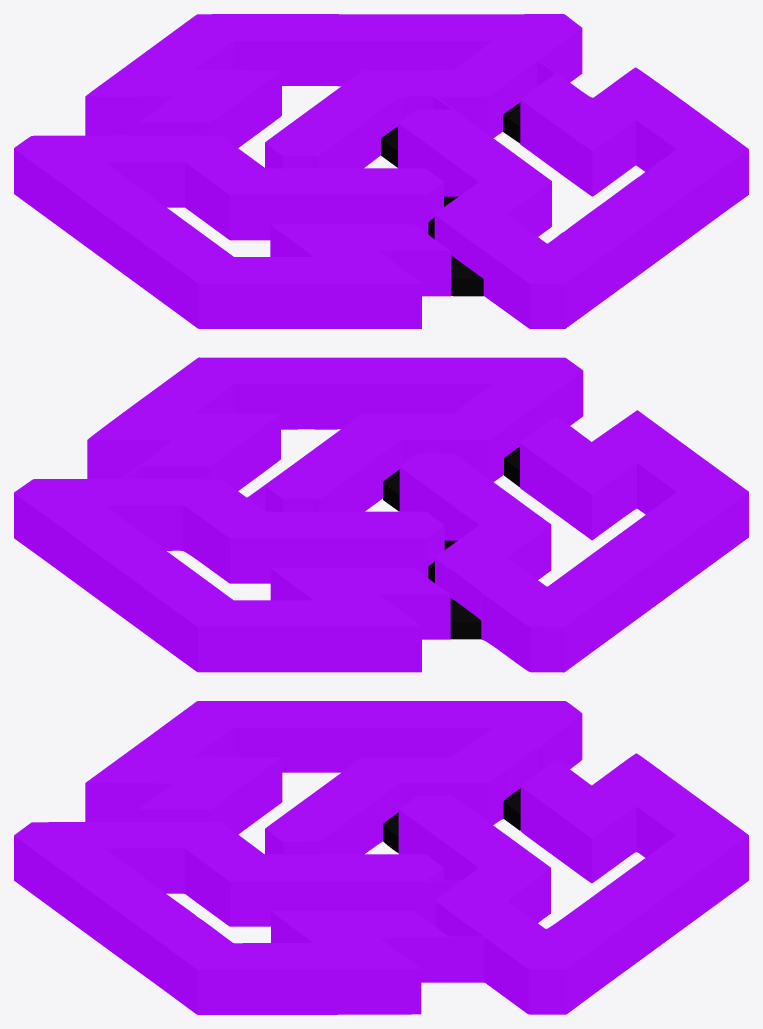
File: trinity-anim.glb
3 views of the same model, one above another, from view 1: azimuth 30°, elevation 25°; view 2: azimuth 150°, elevation 25°; view 3: azimuth 270°, elevation 25° (orthographic).
Visible parts, largest first — view 1: logo; view 2: logo; view 3: logo.
Boxes of the visible parts, x1,y1,x2,y2 form: logo: (14,14,748,328); logo: (14,357,748,672); logo: (14,701,748,1014).
Bounding box in the file's own units: 78.88 × 6.2 × 91.26.
